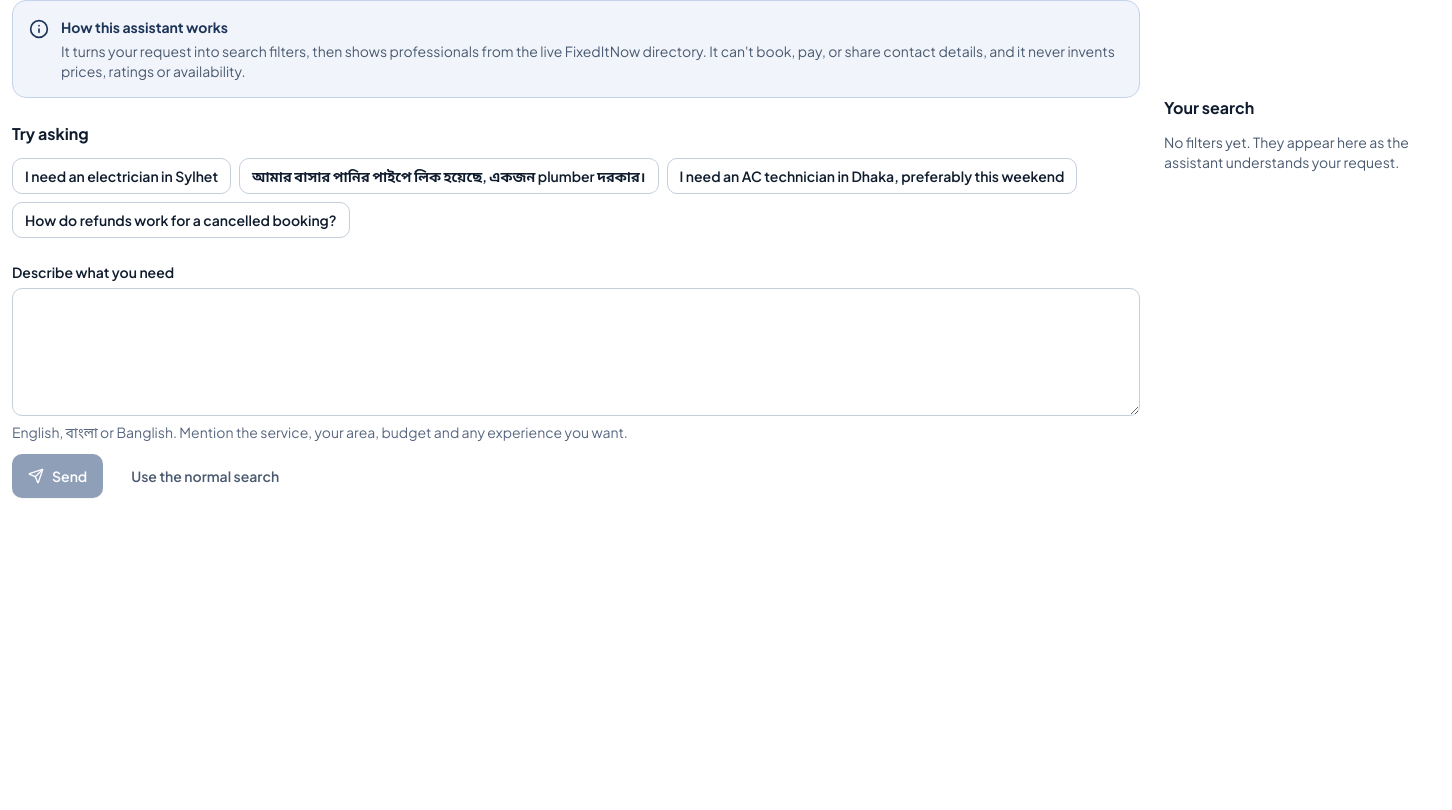
Test: assistant chat › notes explain the limits instead of implying availability or bookings
Type "book a plumber tomorrow evening" into the text box labelled "Describe what you need".
click(576, 352); type("book a plumber tomorrow evening")  # box [12, 288, 1140, 416]
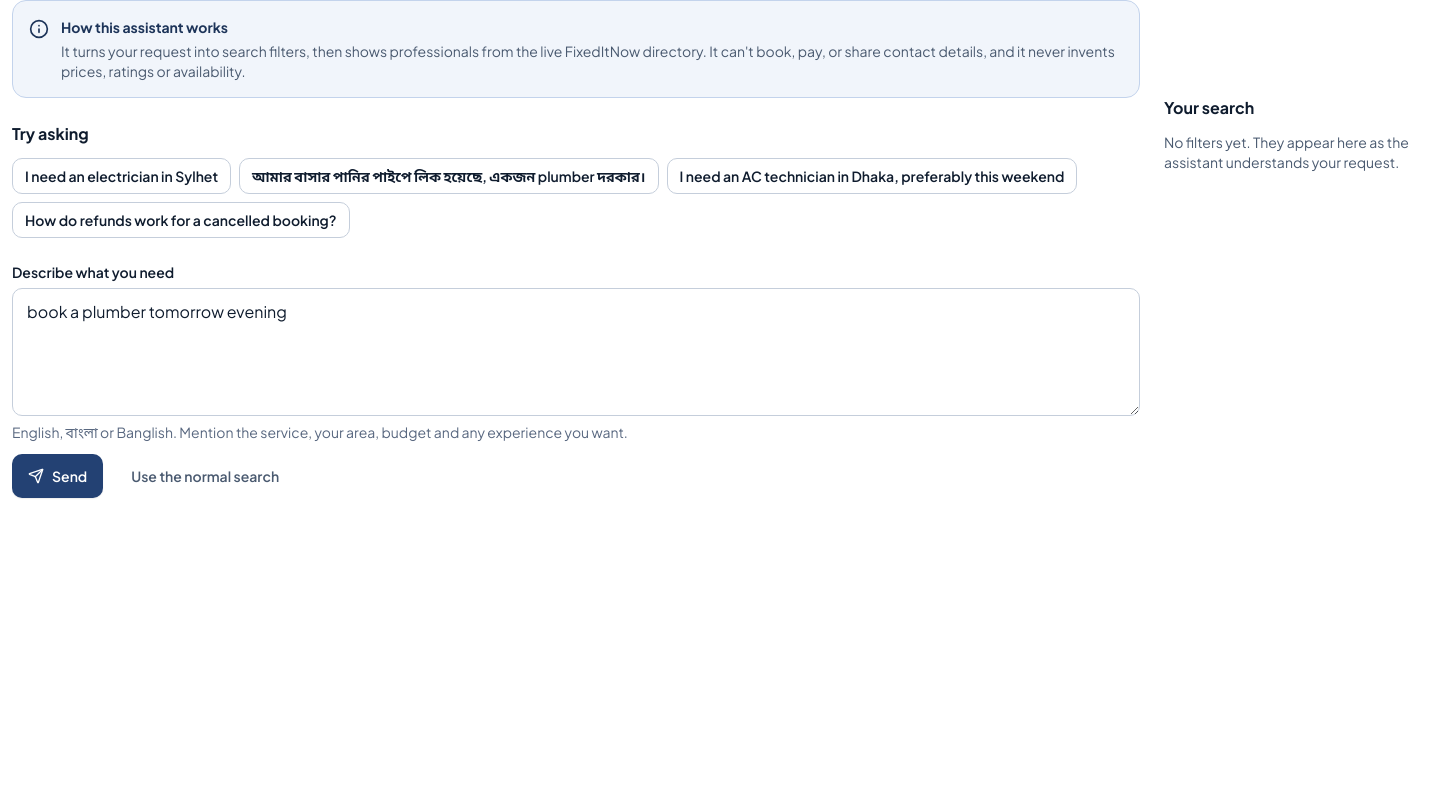
Click the button "Send".
click(58, 476)  # box [12, 454, 103, 498]
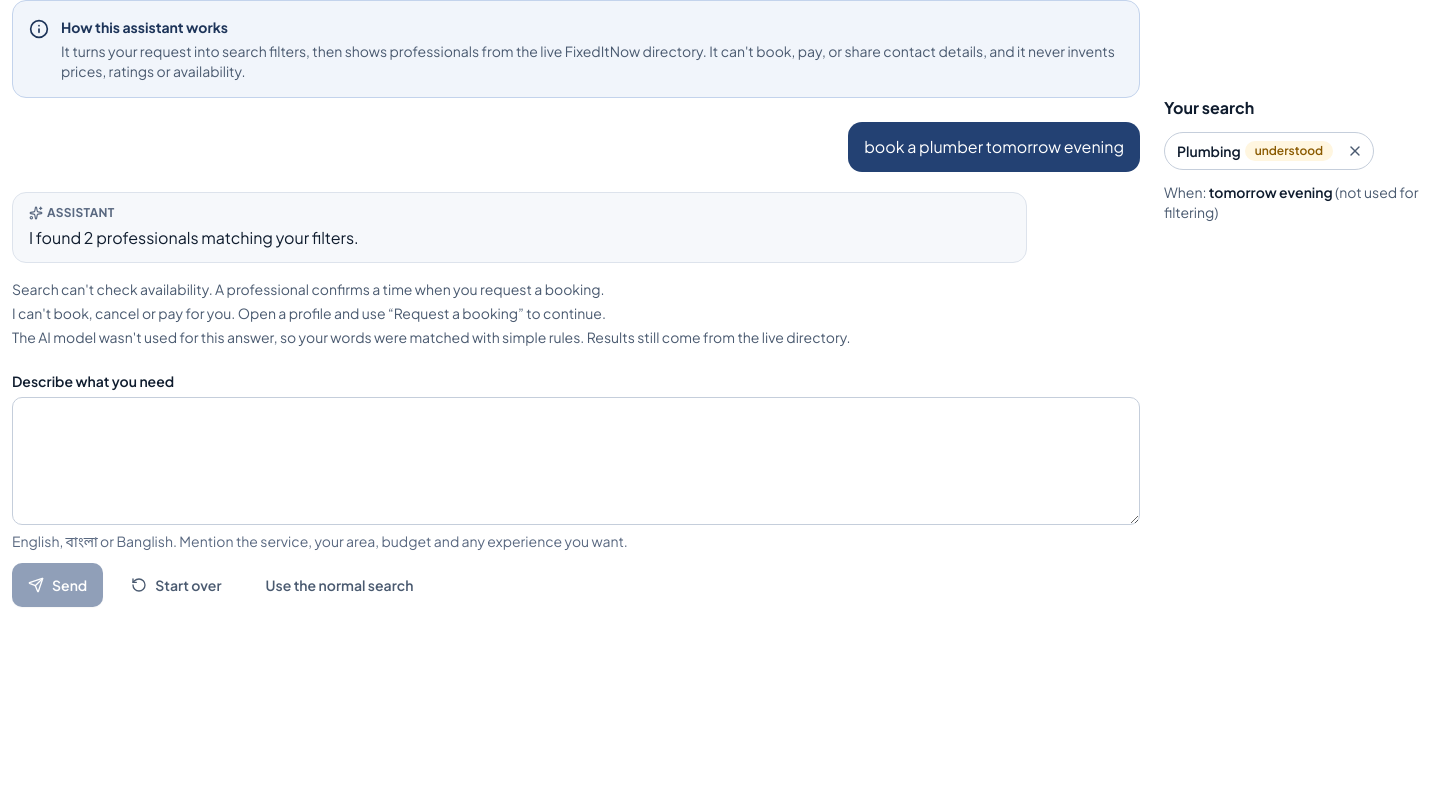
Now the list item "Search can't check availability" is shown, box [12, 280, 604, 298]
Now the list item "can't book, cancel or pay for you" is shown, box [12, 304, 606, 322]
Now the list item "AI model wasn't used" is shown, box [12, 328, 851, 346]
